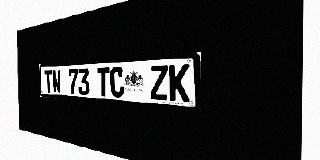3: (78, 68, 89, 95)
7: (68, 69, 78, 95)
C: (110, 67, 124, 98)
K: (169, 64, 190, 102)
T: (97, 67, 110, 97), (44, 70, 53, 93)
W: (52, 70, 61, 94)
Z: (150, 65, 168, 101)
